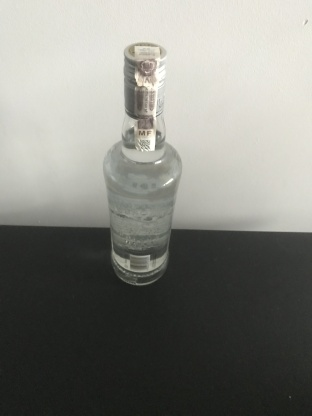nakretka: (121, 40, 168, 120)
